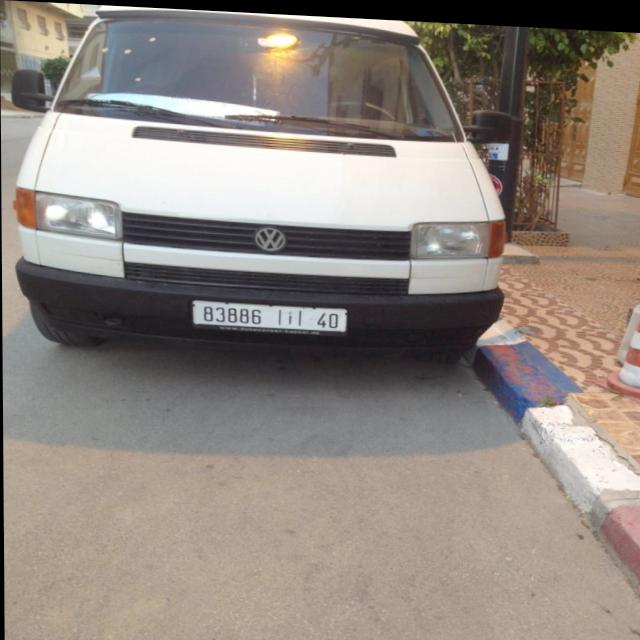License-Plate: (192, 298, 347, 329)
